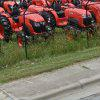Tractor: (7, 2, 100, 46)
